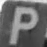Parking: (4, 2, 39, 42)
